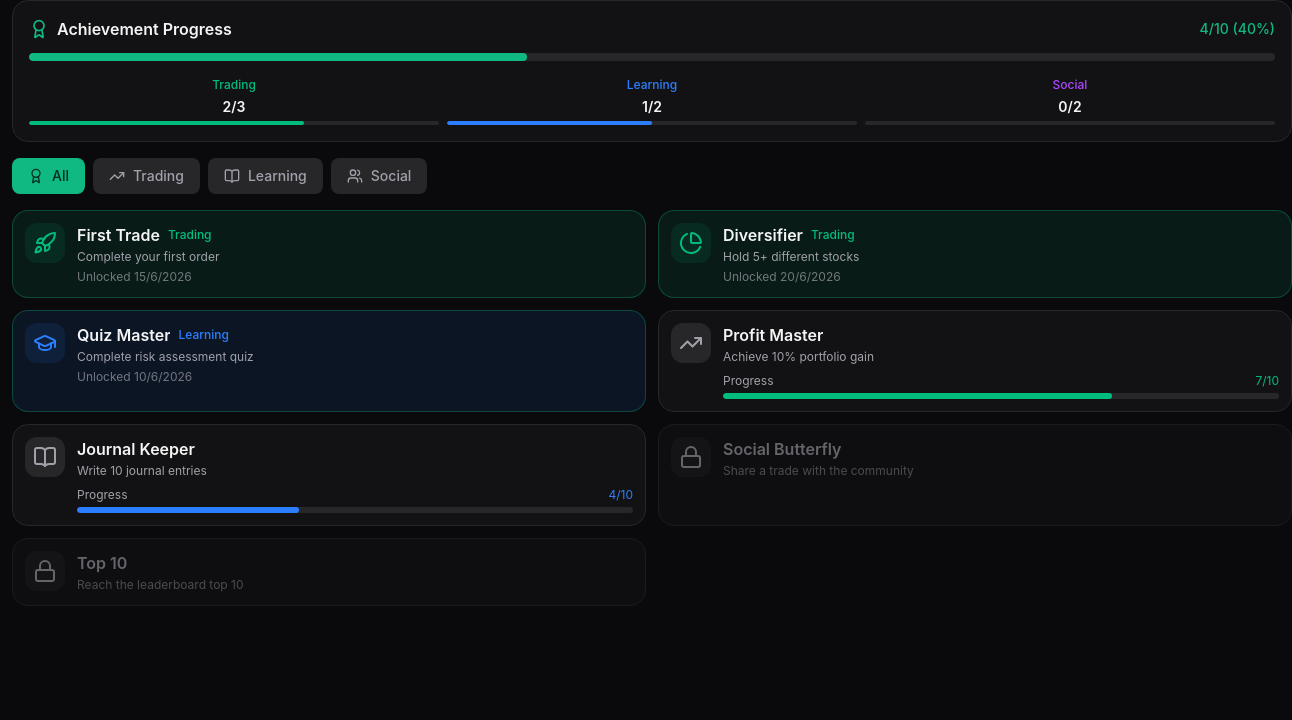
it: AchievementsList › filters achievements by Social category
What coordinates should you click on to do the following:
click the button "Social"
I would click on:
 (379, 176)
Its box is [331, 158, 427, 194].
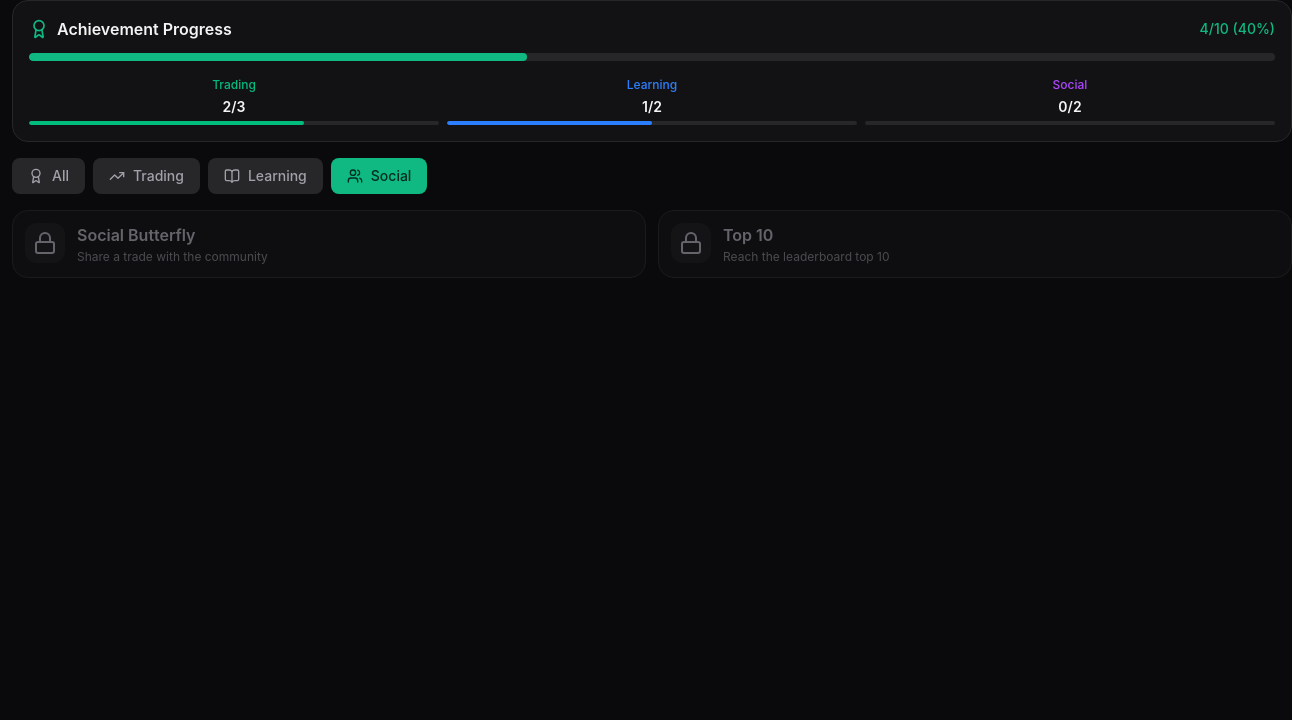
Expected: the heading "Social Butterfly" is shown, [77, 223, 196, 247]
Result: the heading "First Trade" is gone
Result: the heading "Journal Keeper" is gone
